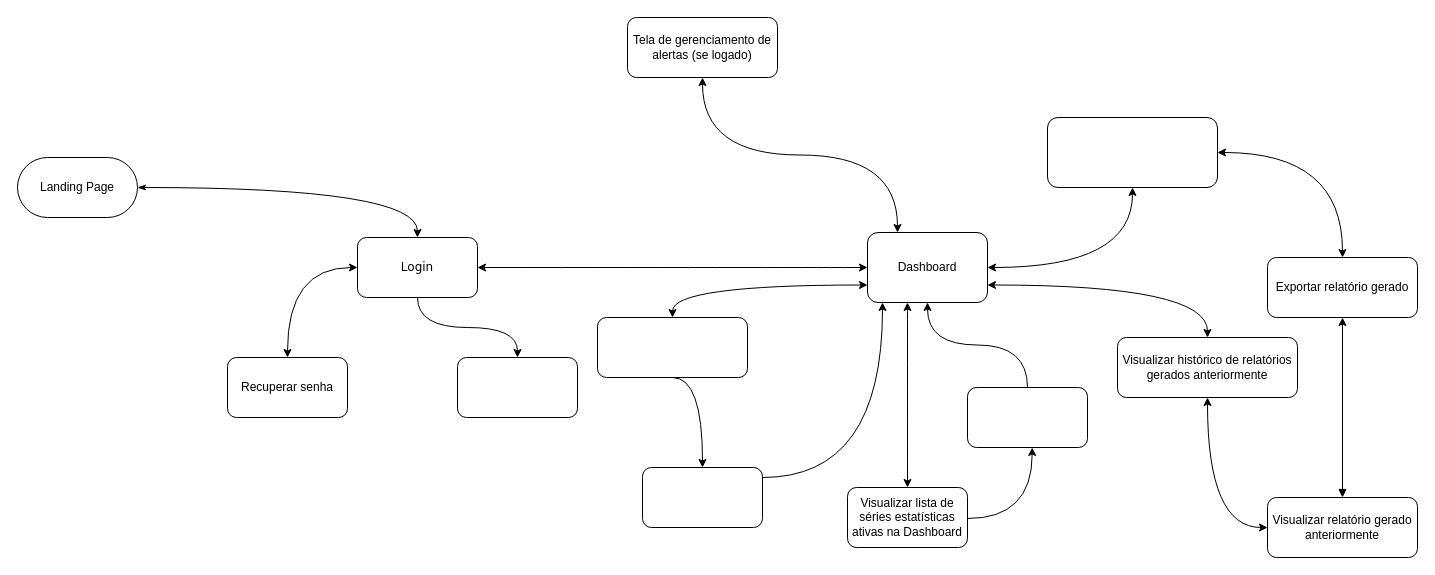
The diagram is 1435 pixels wide and 575 high, and some of its shapes have lost their labels. The box of each missing label's shape, as (x1, y1, x2, y2) in pixels:
Adicionar série estatística à Dashboard: (642, 466, 762, 528)
Criar conta: (456, 356, 578, 418)
Gerar e visualizar relatório das séries estatísticas na Dashboard: (1046, 116, 1218, 188)
Pesquisar/filtrar séries estatísticas: (596, 316, 748, 378)
Remover série estatística da Dashboard: (966, 386, 1088, 448)
